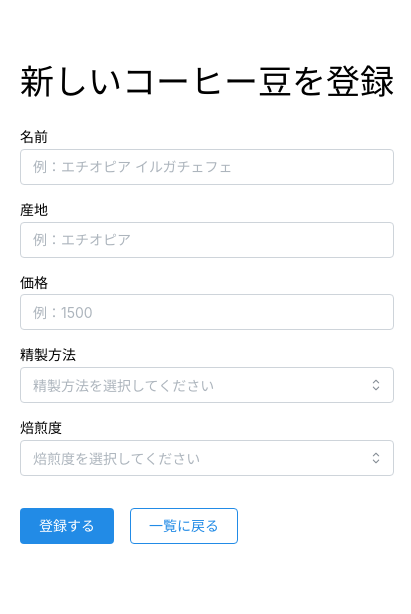
Test case: NewBeanPage › shows validation errors when submitting an empty form
This screenshot has width=411, height=614.
What coordinates should you click on to do the following:
click the button "登録する"
I would click on:
 (67, 526)
Its box is [20,508,114,544].
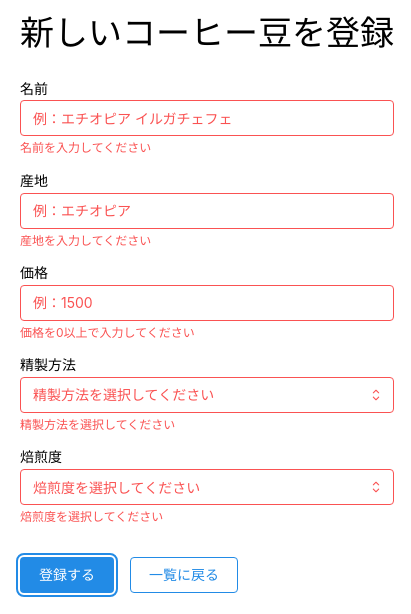
Expected: the text "名前を入力してください" is shown, [20,140,151,155]
Expected: the text "産地を入力してください" is shown, [20,233,151,248]
Expected: the text "価格を0以上で入力してください" is shown, [20,325,195,340]
